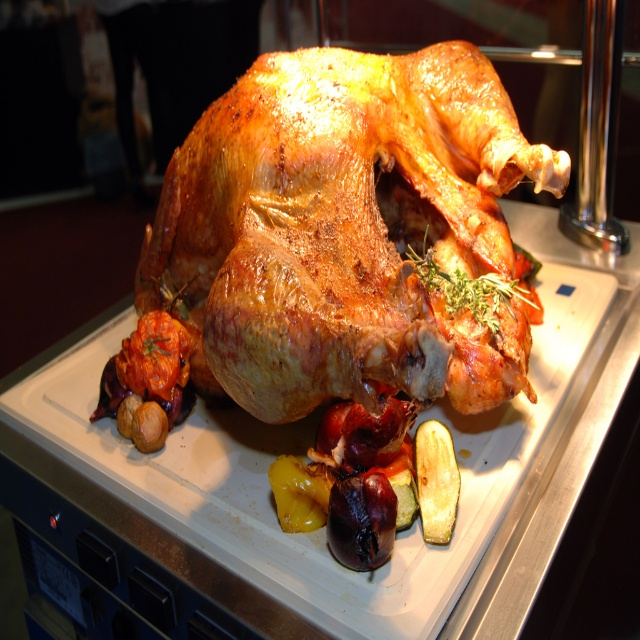Turkey: (132, 39, 571, 413)
